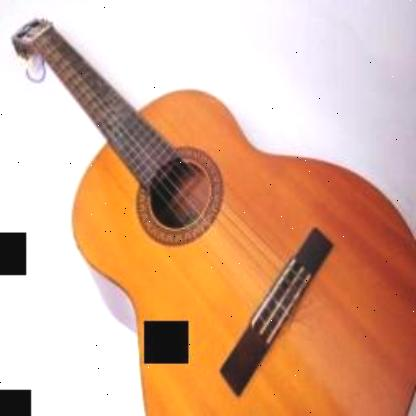acousticguitar: (10, 16, 416, 416)
